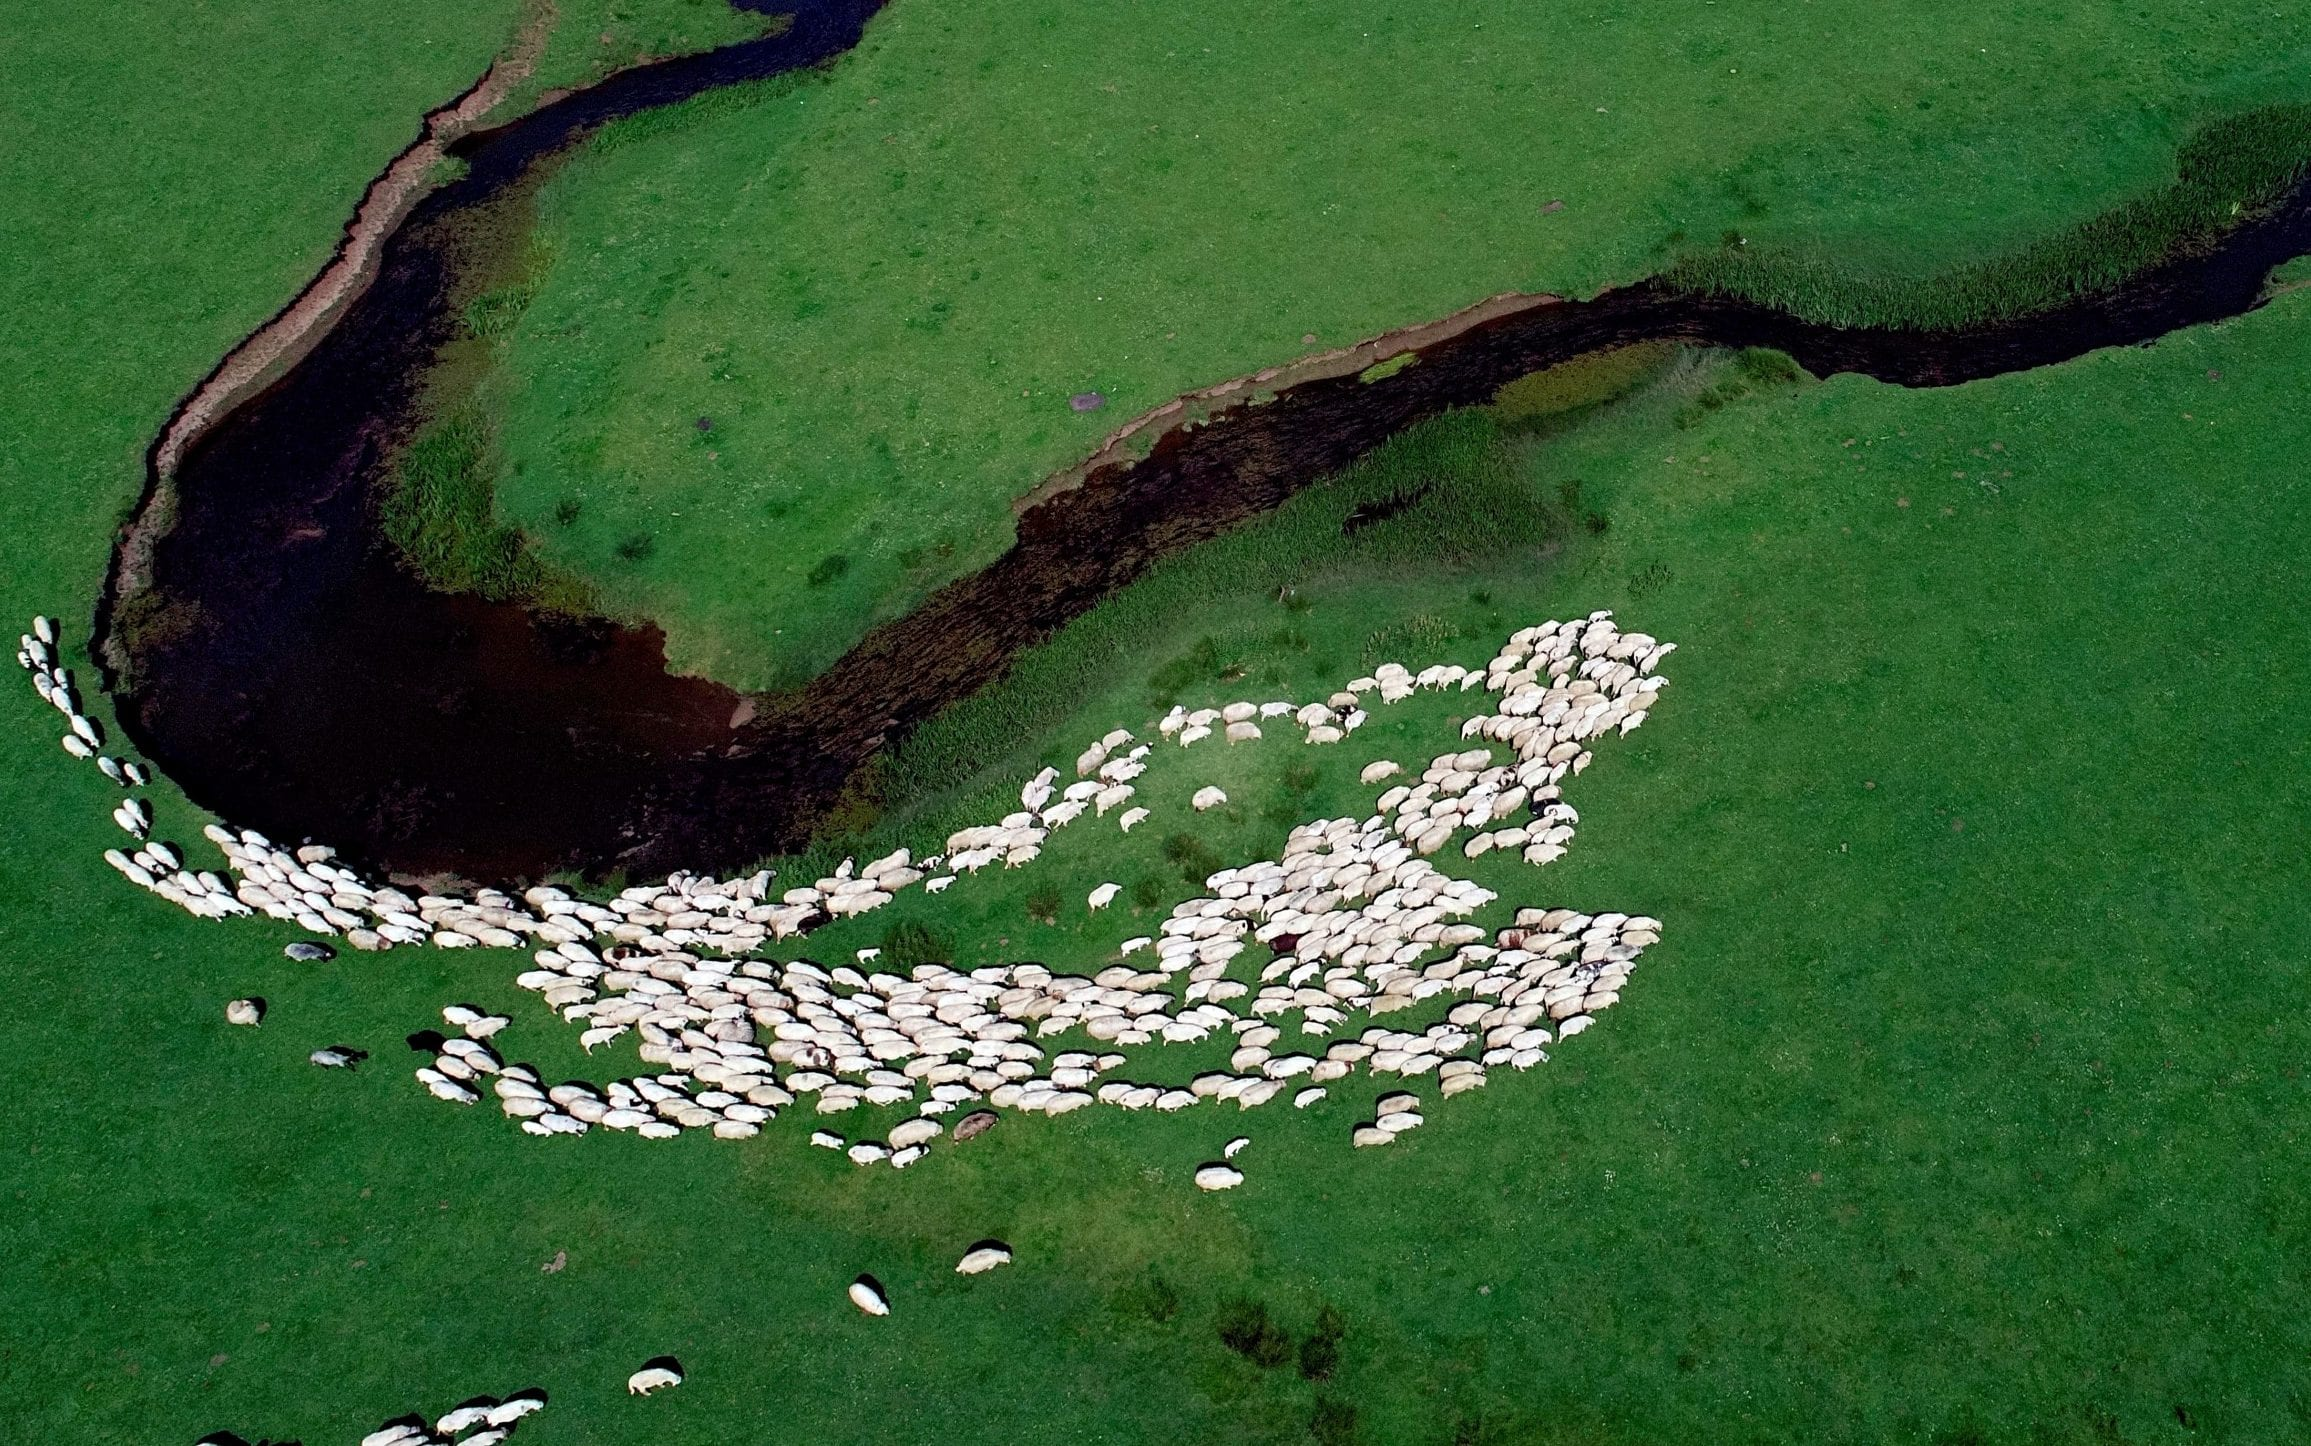sheep: (103, 845, 153, 890), (624, 1363, 683, 1399), (957, 1244, 1017, 1278), (847, 1281, 894, 1323), (1194, 1163, 1245, 1193), (495, 1078, 548, 1106), (578, 1025, 628, 1055), (433, 926, 480, 956), (433, 1055, 480, 1084), (430, 1080, 481, 1106), (541, 983, 589, 1011), (1439, 1071, 1487, 1099), (713, 1118, 763, 1144), (862, 1081, 916, 1106), (539, 1113, 588, 1139), (891, 1118, 946, 1141), (694, 1086, 744, 1111), (72, 710, 102, 751), (748, 1083, 794, 1109), (1352, 1124, 1399, 1151), (498, 1098, 554, 1119), (143, 838, 180, 871), (847, 1141, 891, 1168), (784, 1071, 837, 1093), (1557, 1016, 1600, 1043), (832, 961, 871, 991), (1285, 958, 1325, 986), (461, 1016, 509, 1040), (1155, 1089, 1200, 1114), (1359, 758, 1404, 783), (112, 803, 142, 840), (1419, 825, 1455, 855), (1044, 1093, 1094, 1114), (1160, 1025, 1210, 1046), (348, 928, 393, 951), (847, 893, 892, 916), (867, 1070, 919, 1089), (754, 1006, 798, 1030), (1523, 845, 1570, 866), (1454, 750, 1497, 773), (1082, 880, 1122, 905), (638, 1119, 679, 1143), (1225, 721, 1264, 746), (1462, 830, 1492, 861), (867, 1041, 919, 1060), (1122, 971, 1174, 990), (618, 885, 674, 901), (656, 1098, 699, 1119), (225, 998, 260, 1025), (516, 971, 563, 991), (97, 751, 123, 786), (1410, 976, 1450, 1000), (638, 1043, 679, 1065), (60, 731, 92, 760), (1375, 1094, 1424, 1113), (1437, 925, 1485, 943), (1512, 1050, 1552, 1071), (1493, 830, 1533, 851), (534, 946, 571, 970), (178, 868, 206, 898), (723, 935, 764, 955), (1002, 1041, 1044, 1061), (1459, 715, 1492, 740), (1192, 786, 1230, 808), (689, 891, 734, 910), (931, 1086, 979, 1103), (814, 1128, 846, 1153), (203, 820, 235, 845), (1119, 806, 1151, 831), (238, 886, 276, 906), (506, 915, 544, 935), (997, 1060, 1036, 1080), (1260, 700, 1299, 720), (1305, 725, 1344, 745), (519, 1119, 551, 1143), (122, 761, 147, 790), (1112, 936, 1151, 955), (946, 850, 981, 870), (1344, 676, 1379, 696), (52, 685, 73, 716), (784, 890, 829, 905), (1618, 711, 1652, 731), (1222, 1136, 1250, 1159), (1415, 663, 1445, 685), (1179, 726, 1210, 746), (1300, 1021, 1332, 1041), (1548, 760, 1573, 785), (1360, 826, 1394, 845), (1487, 655, 1522, 671), (924, 876, 956, 893), (832, 856, 856, 876), (856, 948, 881, 963)
